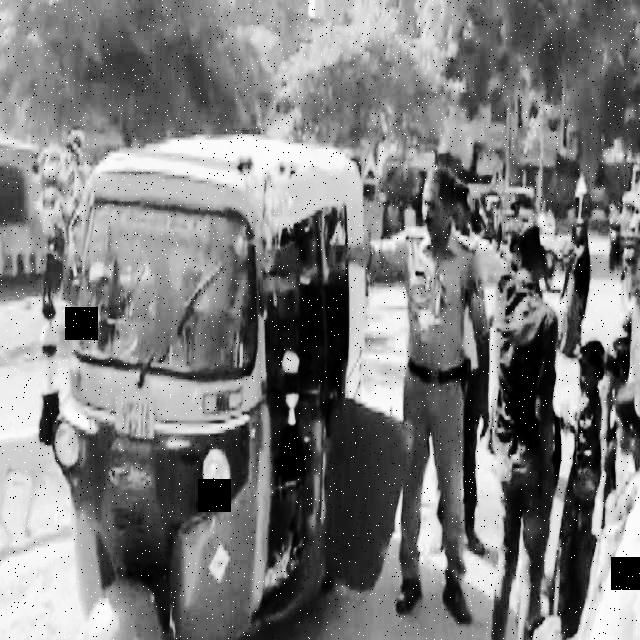Auto-Rickshaw: (69, 118, 381, 640)
